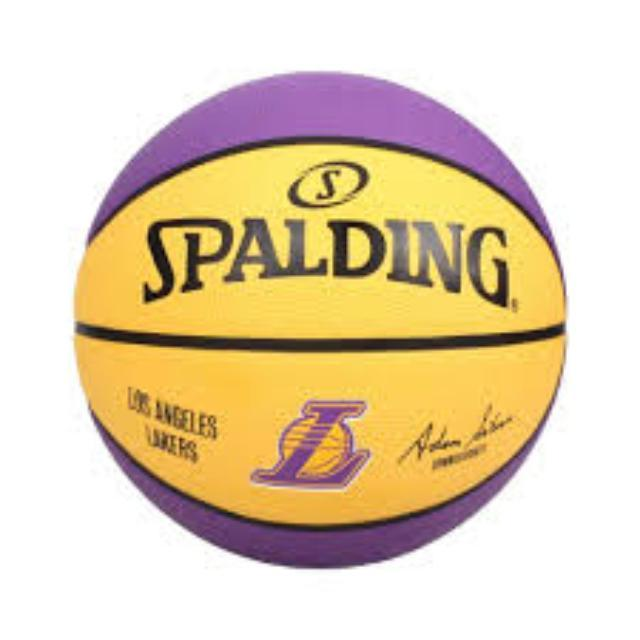basketball: (76, 76, 566, 568)
